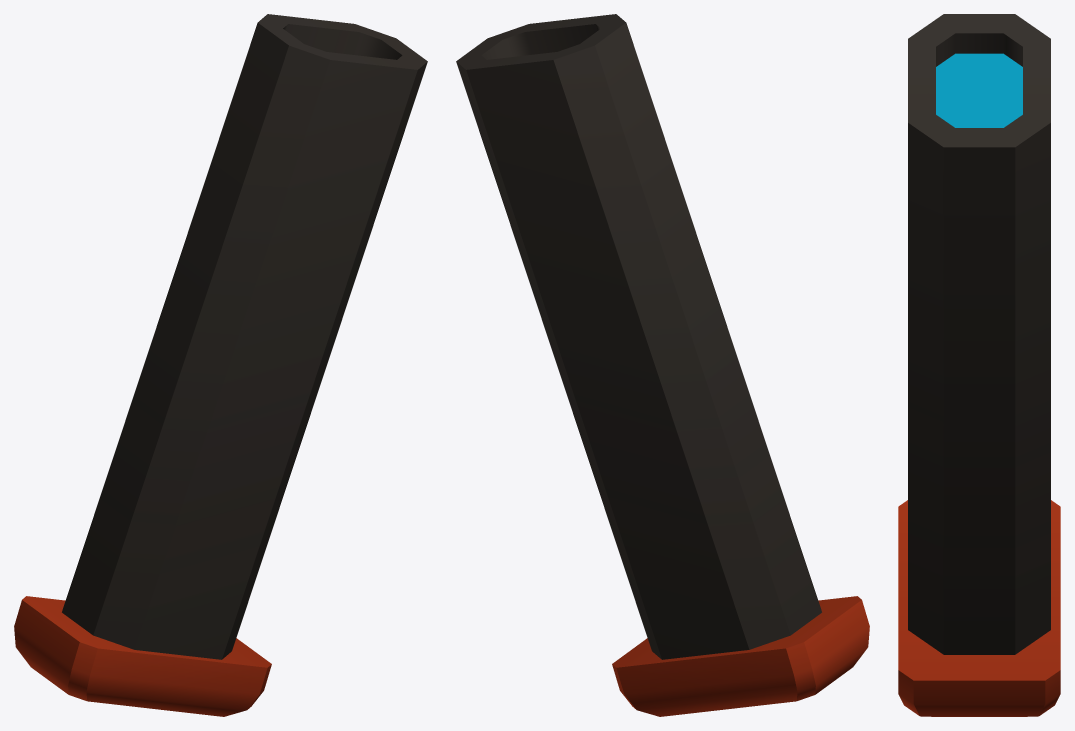
File: Pistol3_MagazineExtended.fbx
3 views of the same model, side by side, from view 1: azimuth 30°, elevation 25°; view 2: azimuth 150°, elevation 25°; view 3: azimuth 270°, elevation 25° (orthographic). The views are drawn at different scales.
Parts seen in each view (by area): view 1: Pistol3_MagazineExtended; view 2: Pistol3_MagazineExtended; view 3: Pistol3_MagazineExtended.
Boxes of the visible parts, x1,y1,x2,y2 form: Pistol3_MagazineExtended: [14, 14, 427, 716]; Pistol3_MagazineExtended: [456, 14, 869, 716]; Pistol3_MagazineExtended: [898, 14, 1060, 716].
Size of the model in its own units: 9.3 by 15.6 by 3.11.
